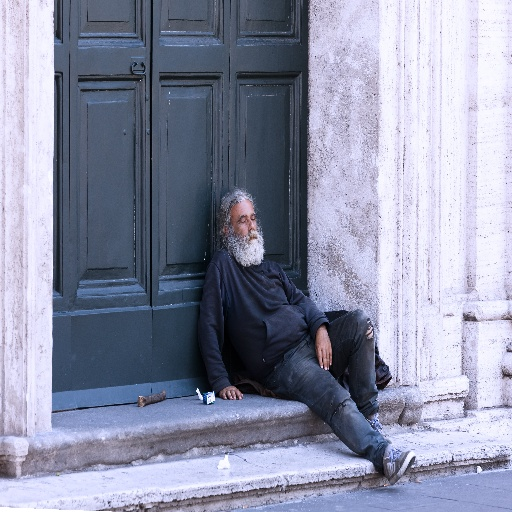hand: (312, 325, 348, 391), (219, 386, 244, 402)
